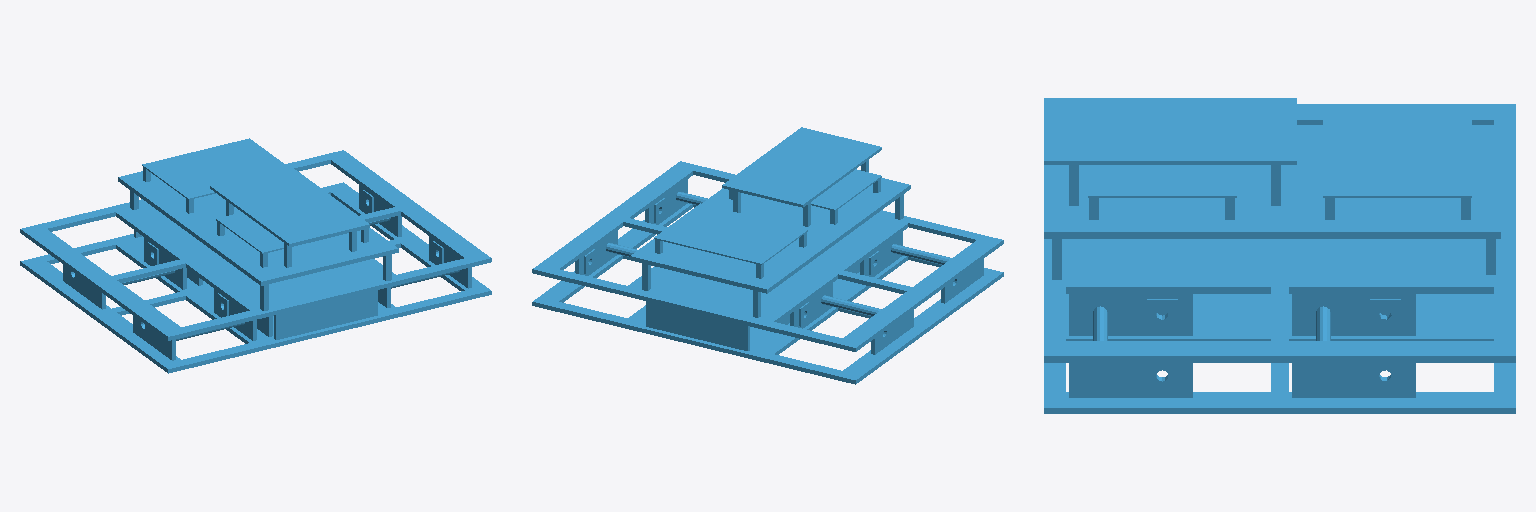
URDF robot description (hexa_robot):
<?xml version="1.0" encoding="utf-8"?>
<!-- =================================================================================== -->
<!-- |    This document was autogenerated by xacro from hekken.xacro                   | -->
<!-- |    EDITING THIS FILE BY HAND IS NOT RECOMMENDED                                 | -->
<!-- =================================================================================== -->
<robot name="hexa_robot">
  <link name="base_link"/>
  <joint name="body_joint" type="fixed">
    <parent link="base_link"/>
    <child link="body_link"/>
    <origin rpy="0 0 0" xyz="0.0 0.0 0.0"/>
  </joint>
  <link name="body_link">
    <visual name="body">
      <geometry>
        <mesh filename="package://tokuken_robot_description/model/base/base_blen_low_3.stl"/>
      </geometry>
    </visual>
  </link>
</robot>

--- Render facts (derived) ---
3 views of the same robot in one strip: view 1: azimuth 30°, elevation 25°; view 2: azimuth 150°, elevation 25°; view 3: azimuth 270°, elevation 25° (orthographic).
Model hexa_robot with 2 links and 1 joints (1 fixed), rooted at base_link, posed every joint at zero.
Visible links, largest first — view 1: body_link; view 2: body_link; view 3: body_link.
Boxes of the visible links, x1,y1,x2,y2 form: body_link: (20, 138, 491, 373); body_link: (532, 127, 1003, 384); body_link: (1044, 98, 1515, 413).
Bounding box of the posed robot: 0.24 × 0.19 × 0.071 m (x, y, z).
1 mesh visuals loaded from 1 distinct referenced files (1 binary STL).
